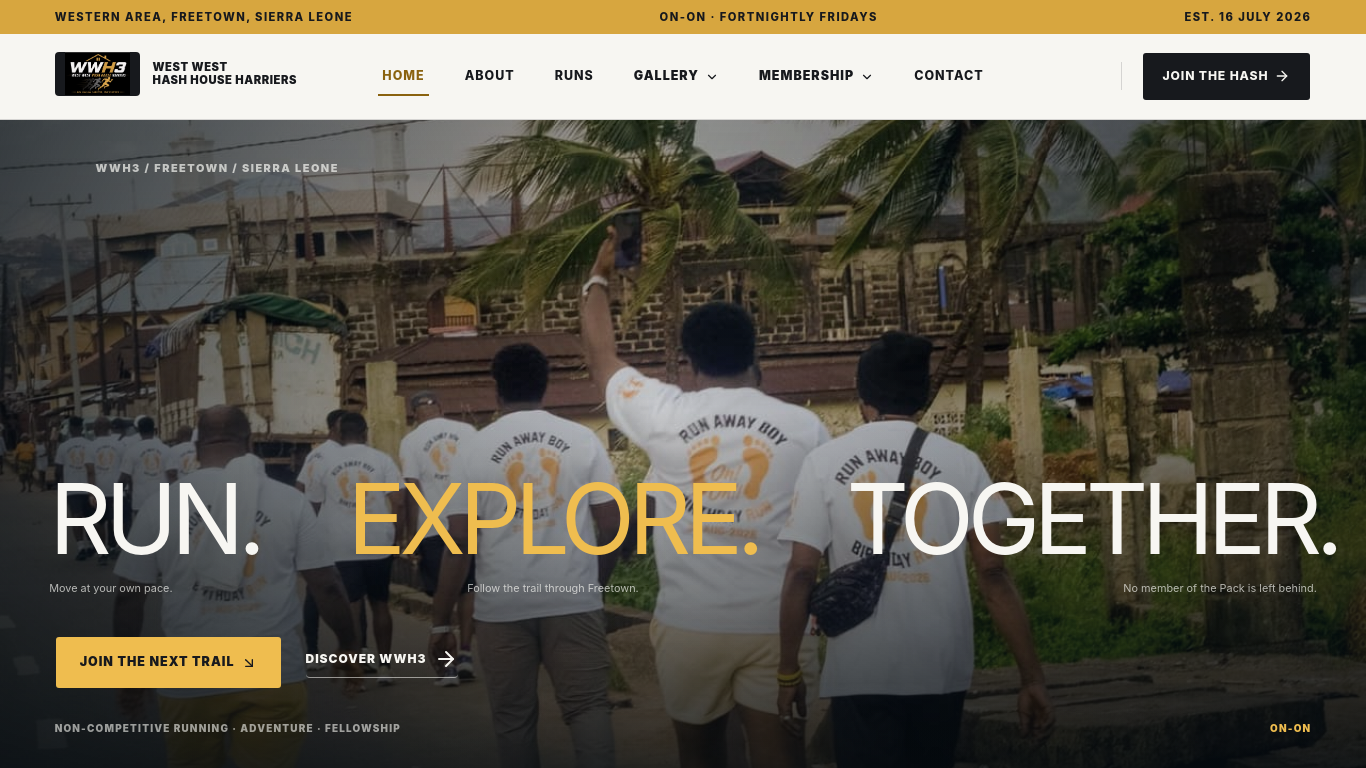
Test: main navigation › routes to the Hash Log without a document navigation
The width and height of the screenshot is (1366, 768).
What coordinates should you click on to do the following:
click the link "Runs"
I would click on:
 (574, 76)
Its box is [551,59,598,94].
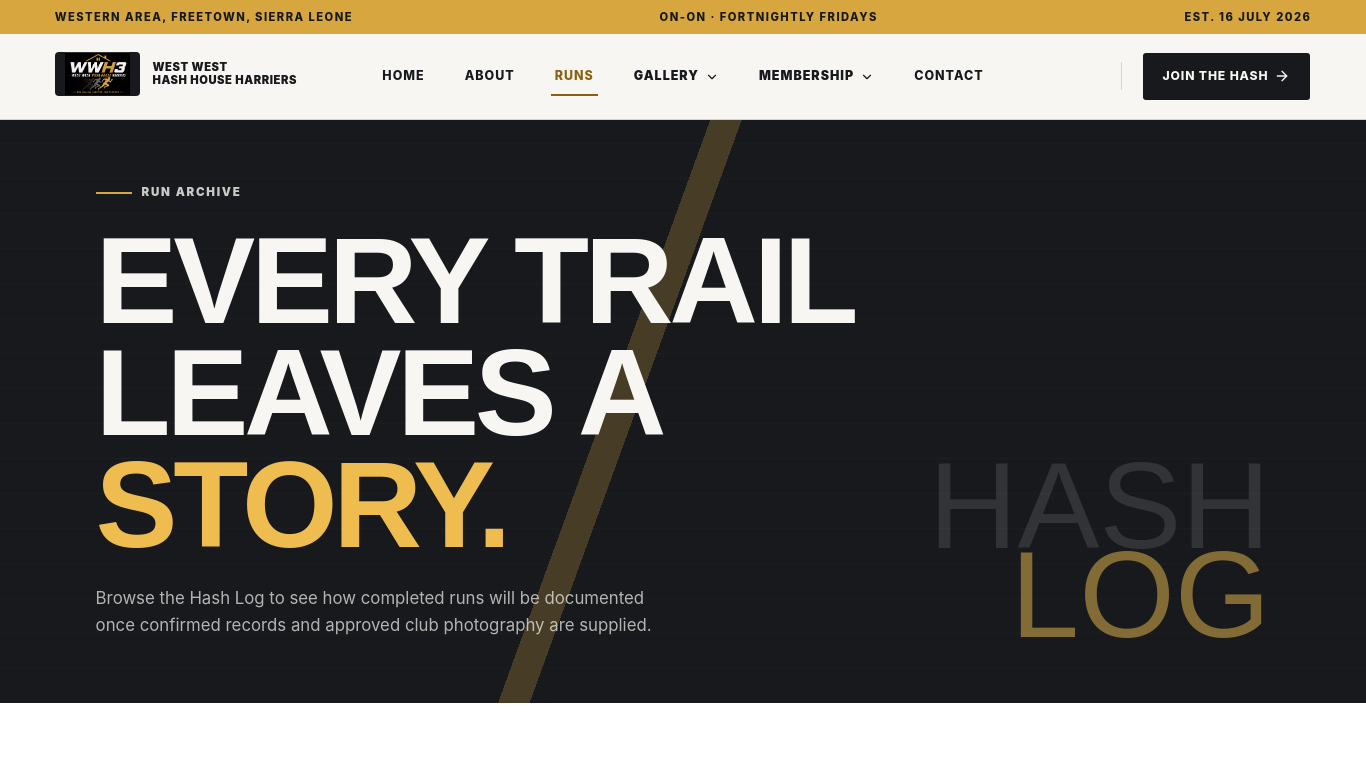
Check: the heading "Every trail" is shown, box [96,225,864,561]
